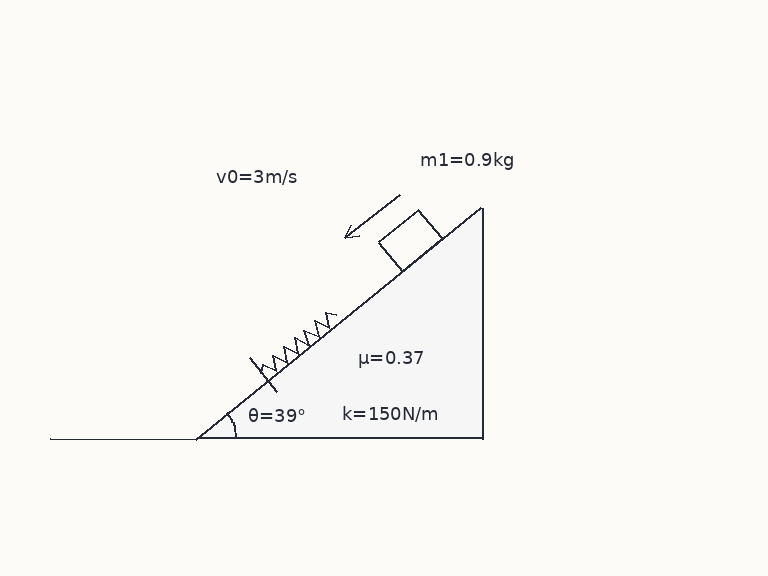block: (376, 208, 444, 273)
ramp: (194, 205, 483, 440)
spring: (260, 310, 338, 375)
